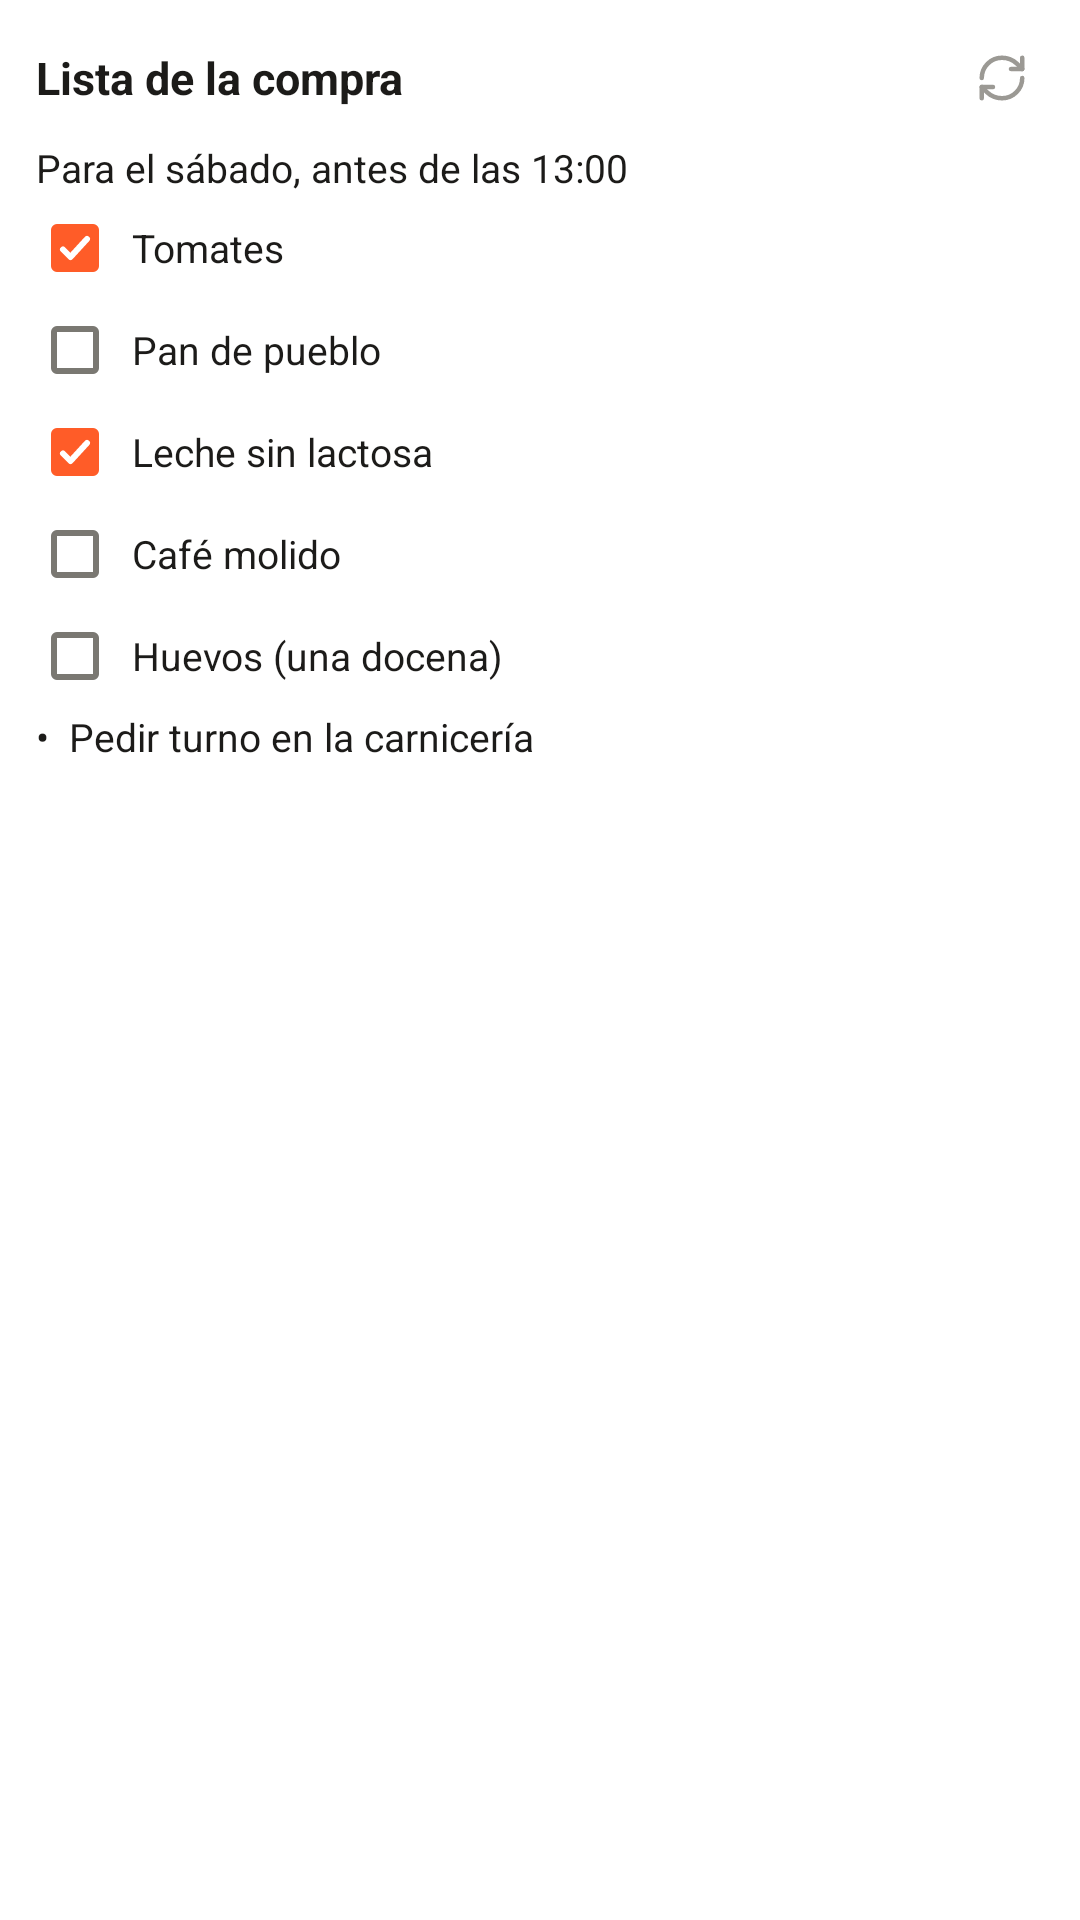

Named icons in this screenshot (1080x1920) and their centers, point (x, y):
widget previa casilla: point (75, 350), point (75, 554), point (75, 656)
widget previa casilla hecha: point (75, 248), point (75, 452)
widget refrescar: point (1002, 78)
